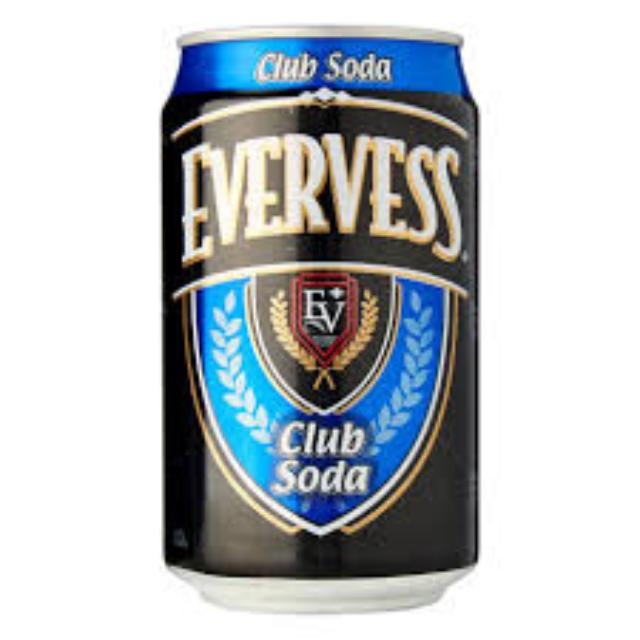metal: (162, 26, 481, 609)
